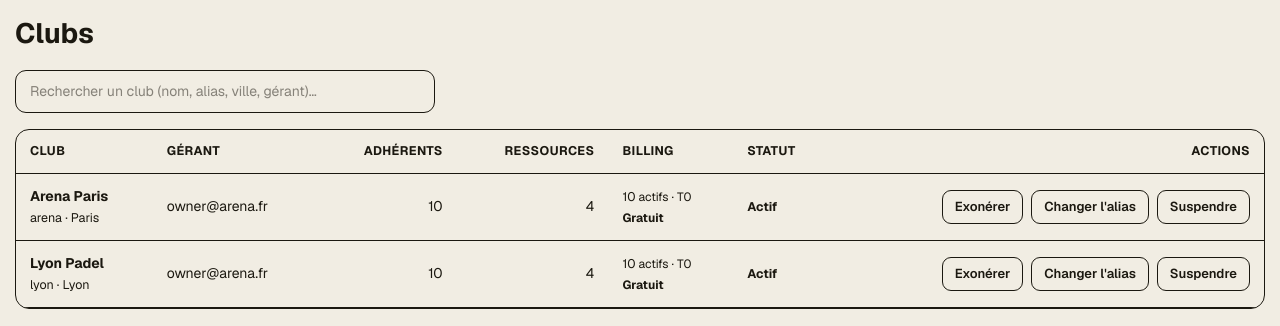
Test case: la recherche filtre par nom/ville
expect the link "Arena Paris" is shown: met, box top-left (30, 187), bottom-right (108, 205)
expect the link "Lyon Padel" is shown: met, box top-left (30, 254), bottom-right (104, 272)
Type "lyon" into the field with placeholder "Rechercher un club (nom, alias, ville, gérant)…" at (225, 92), box top-left (15, 70), bottom-right (435, 113)
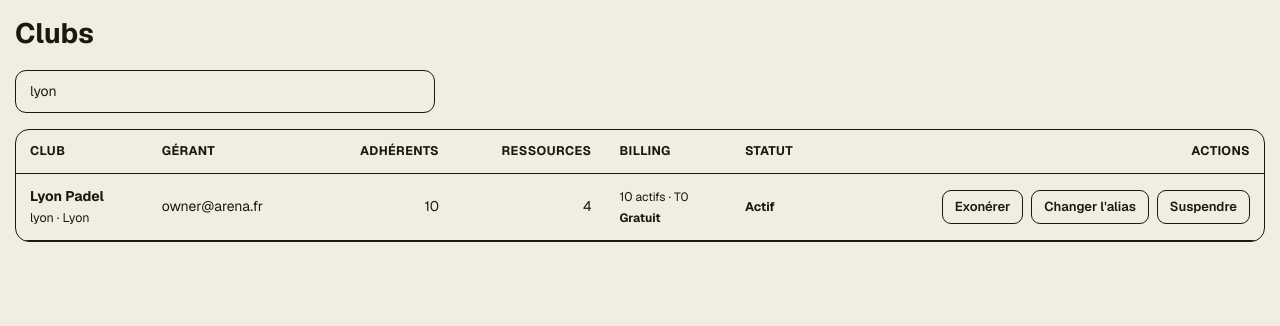
expect the link "Lyon Padel" is shown: met, box top-left (30, 187), bottom-right (104, 205)
expect the link "Arena Paris" is gone: met
